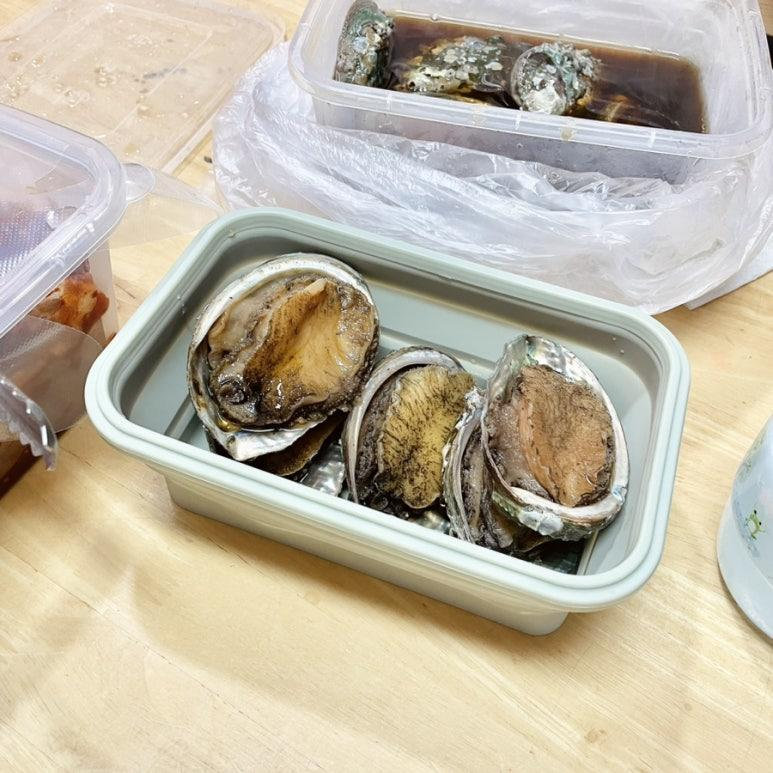Lunch Box: (85, 208, 688, 634)
